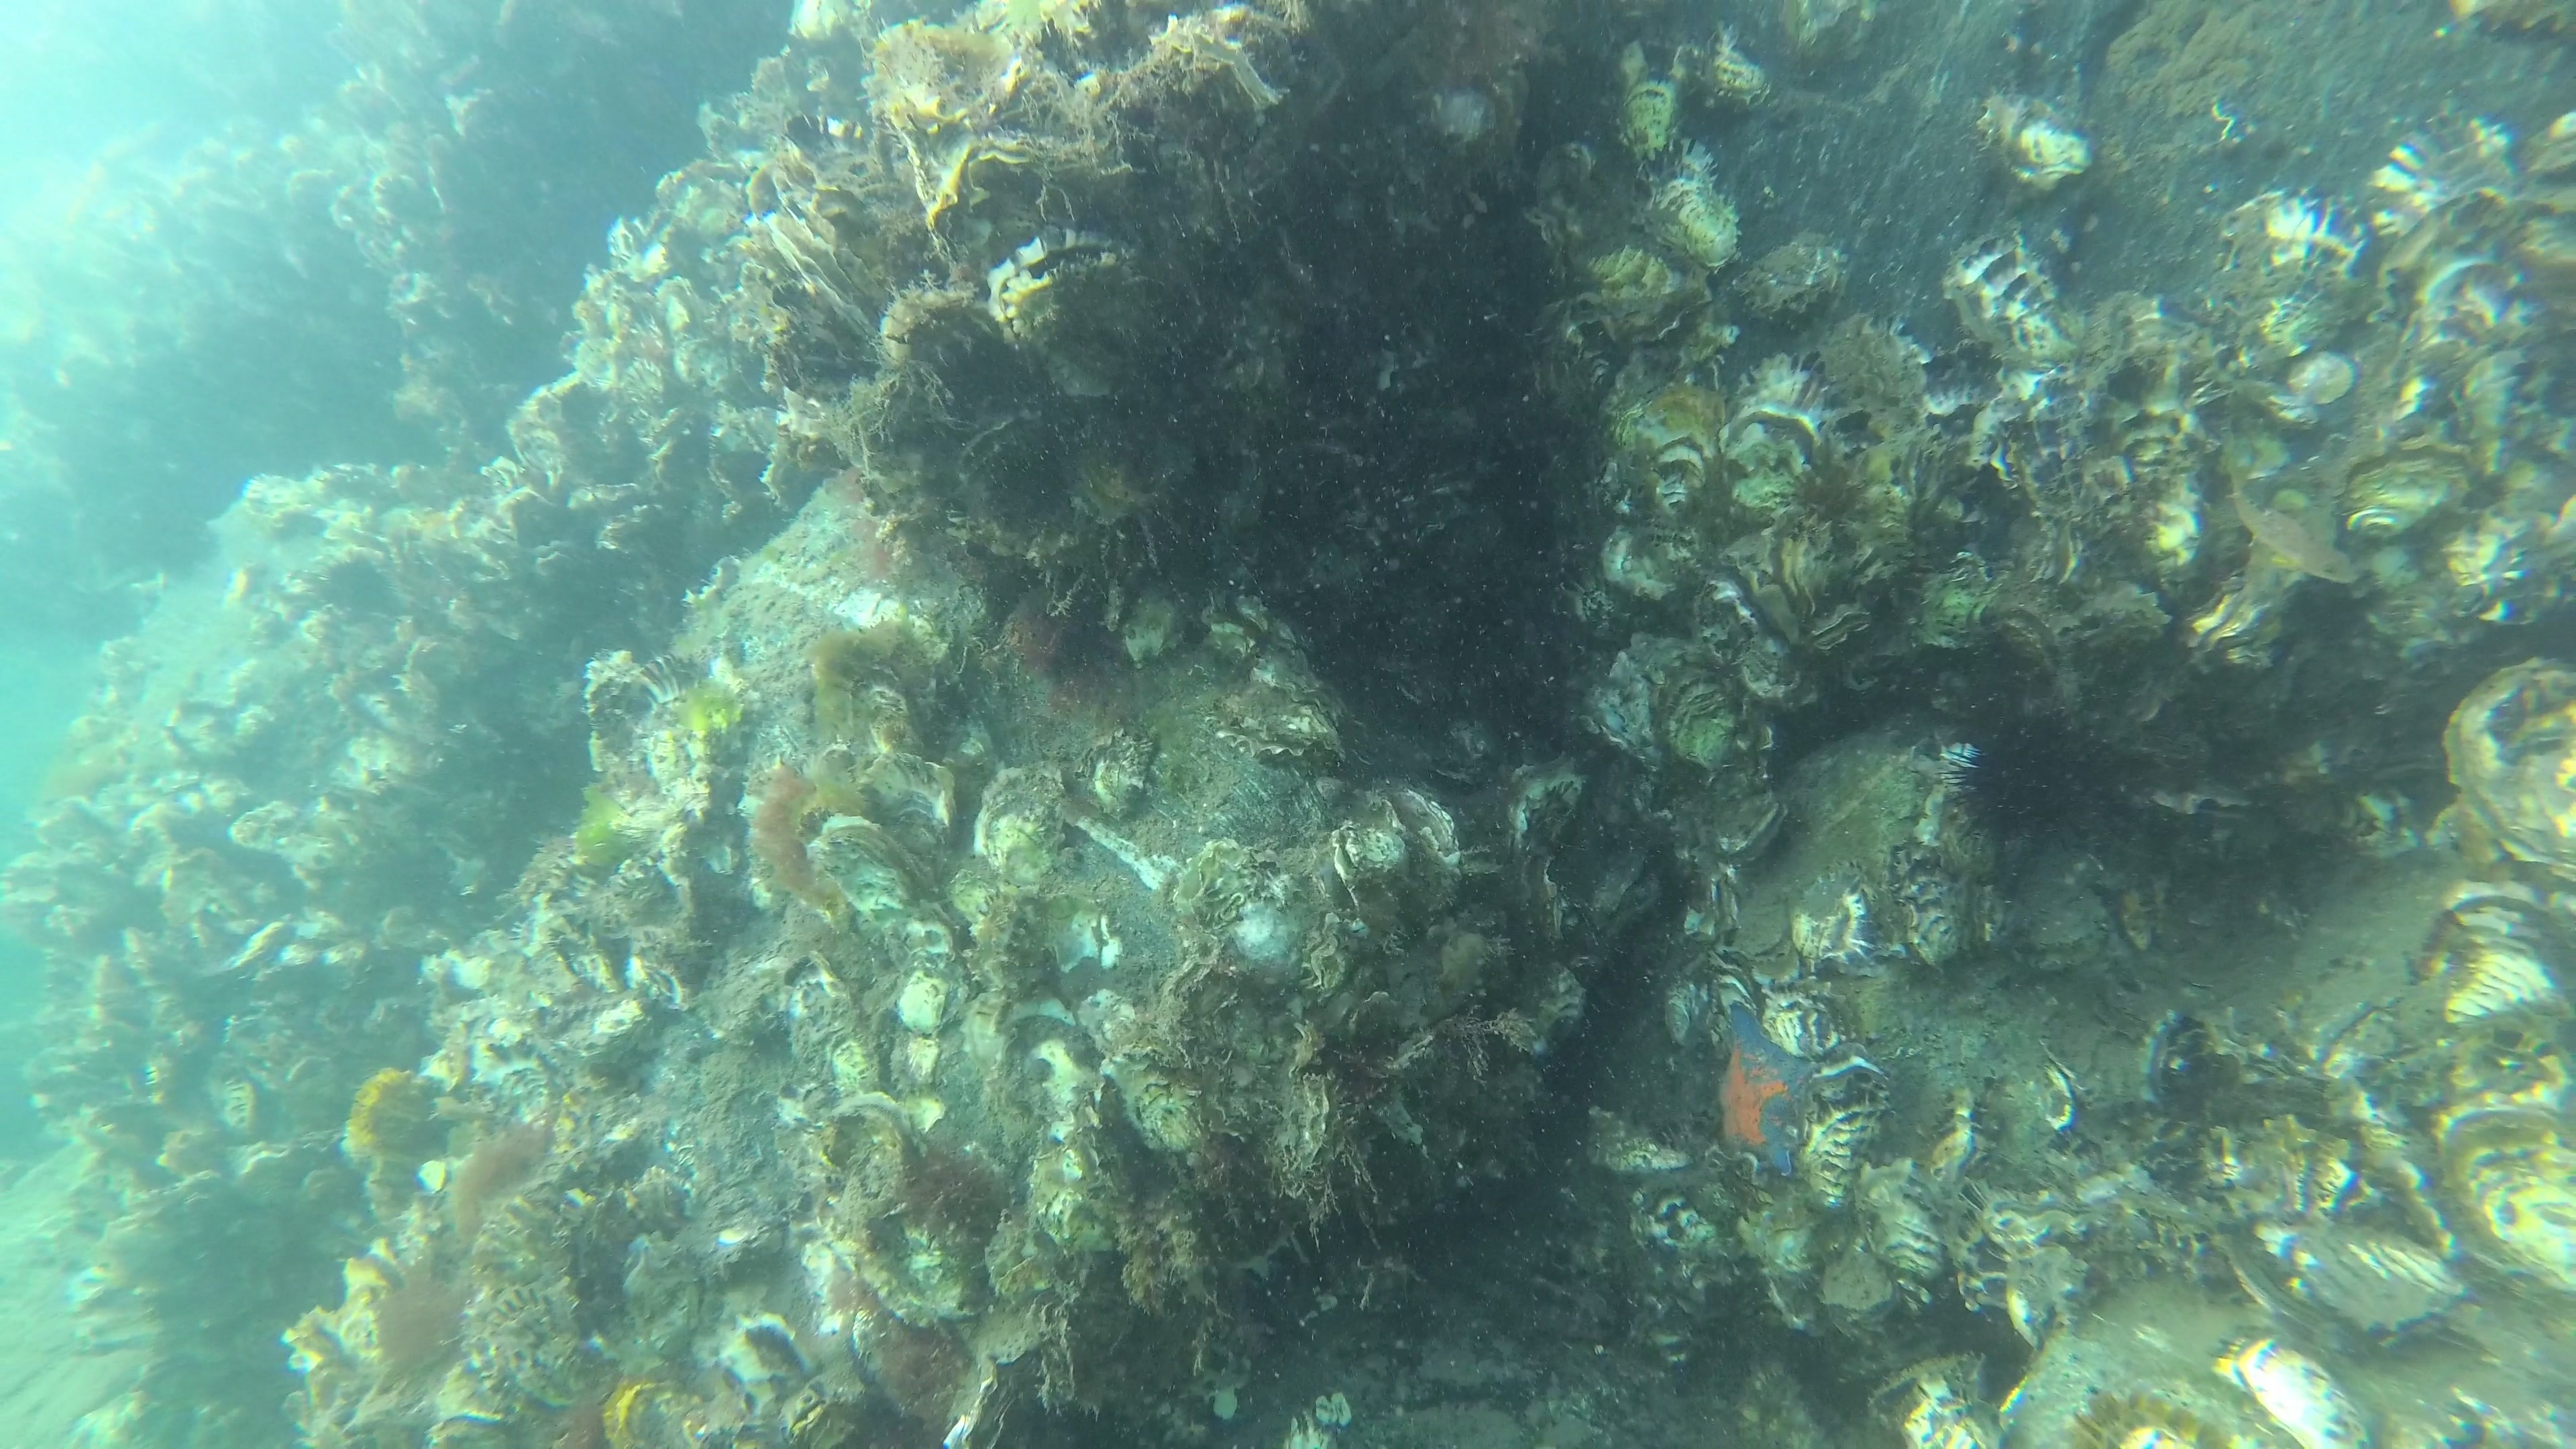echinus: (1939, 711, 2079, 853)
starfish: (1716, 1001, 1824, 1182)
